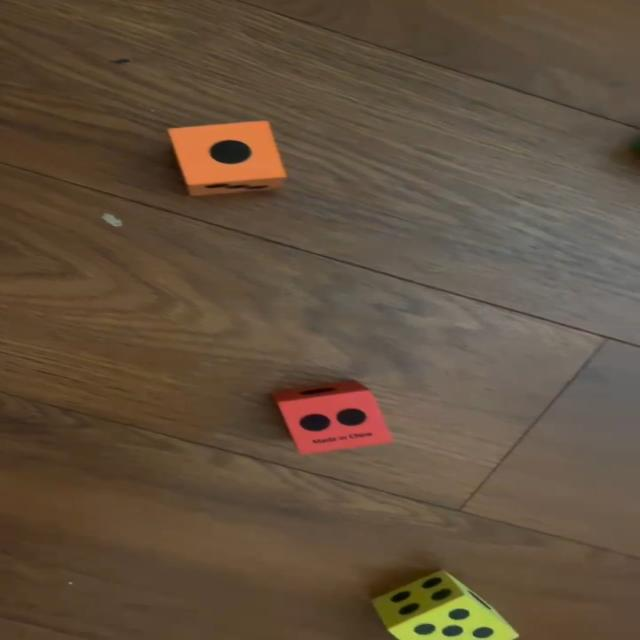red_block: (277, 378, 393, 456)
